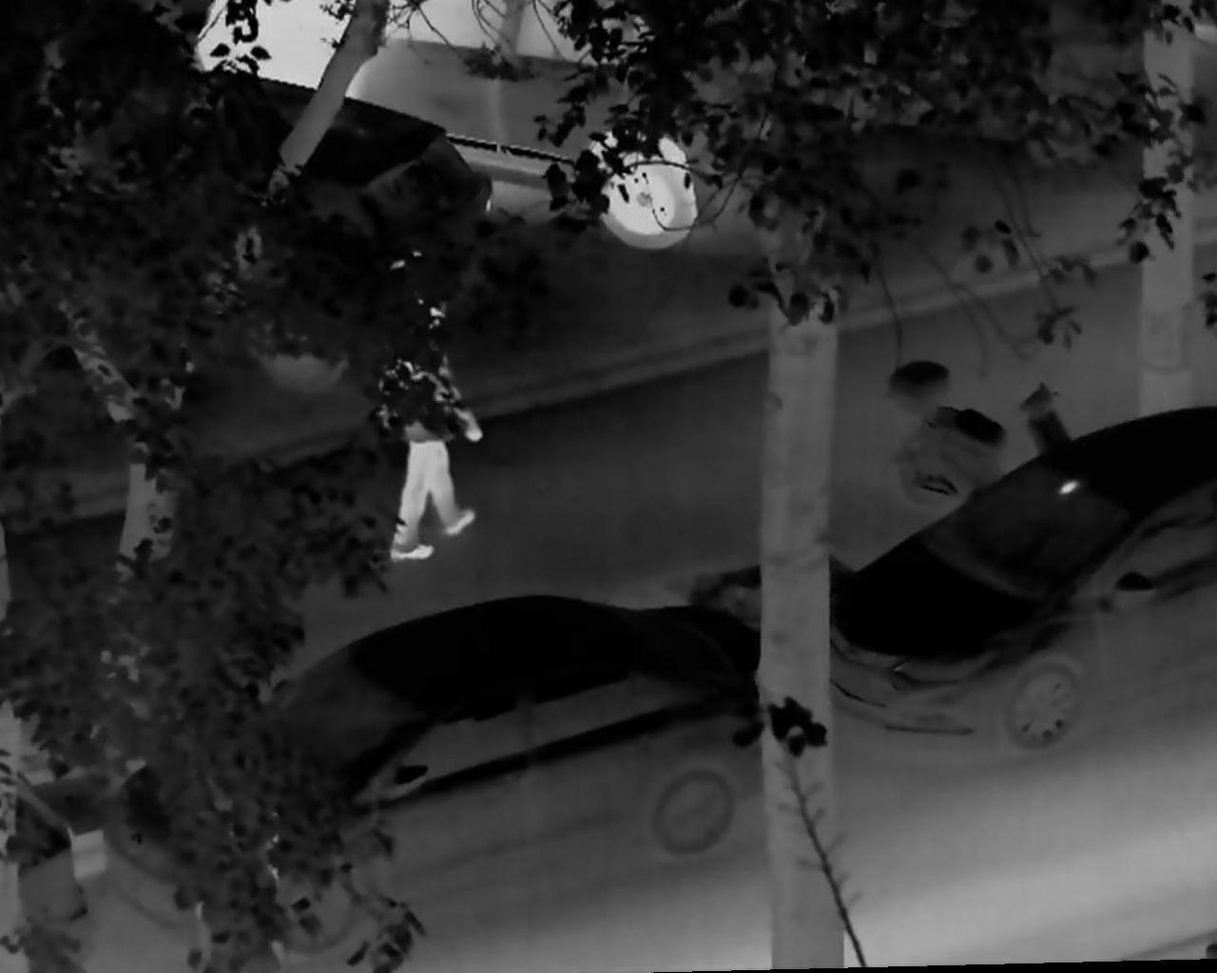person: (372, 284, 485, 566)
